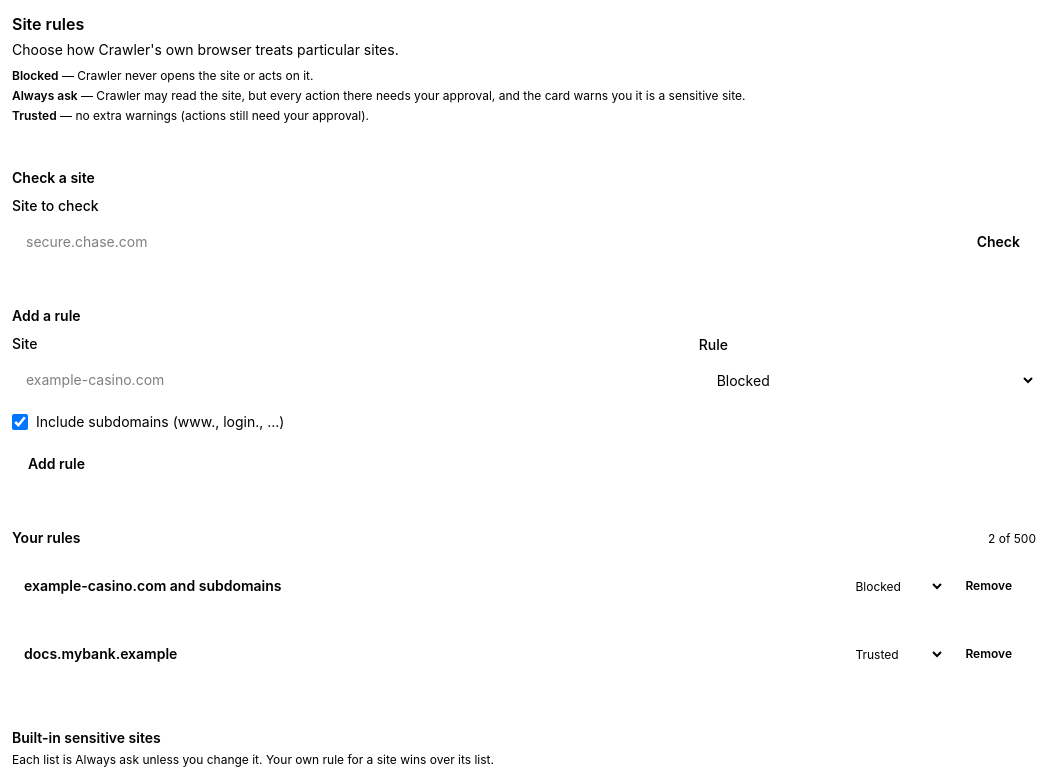
Test: SiteRulesTab › Add posts the typed site, the include-subdomains box and the chosen kind, then shows the new row
Expected: the element "Your rules" is shown, [12,508,1036,684]
Expected: the checkbox labelled "Include subdomains (www., login., …)" is checked, [12,414,28,430]
In the field labelled "Site": (349, 380) [12,360,687,400], type "  https://Shop.Example.com/cart  "
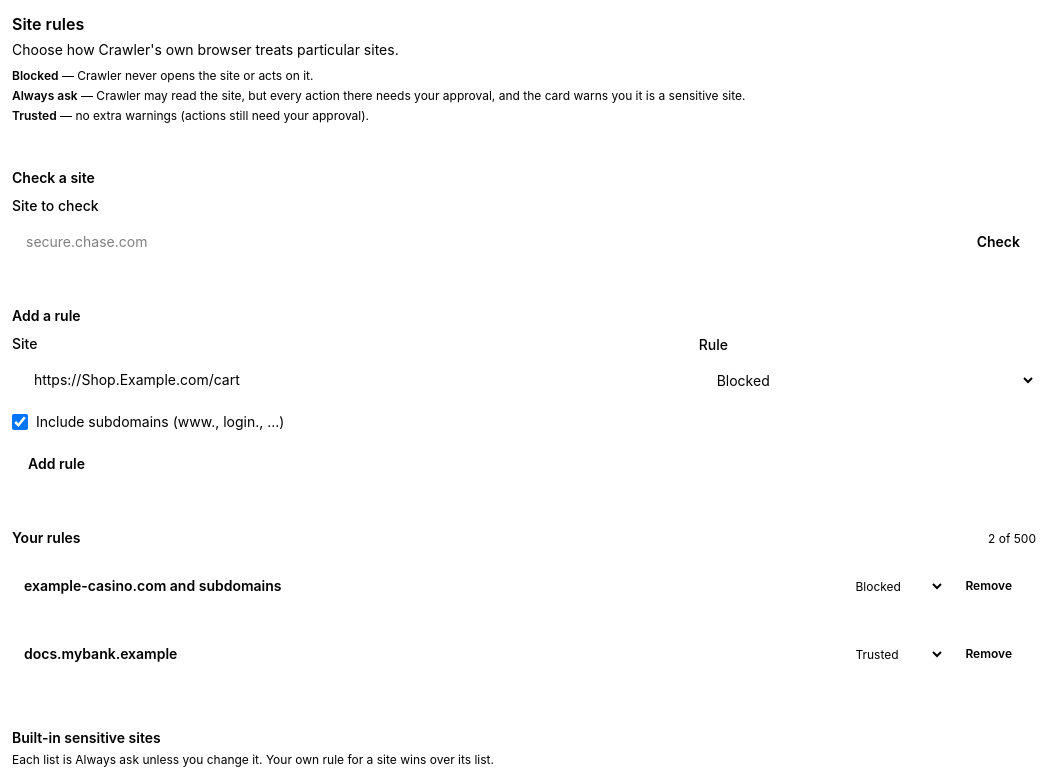
Click the checkbox labelled "Include subdomains (www., login., …)": (20, 422) [12,414,28,430]
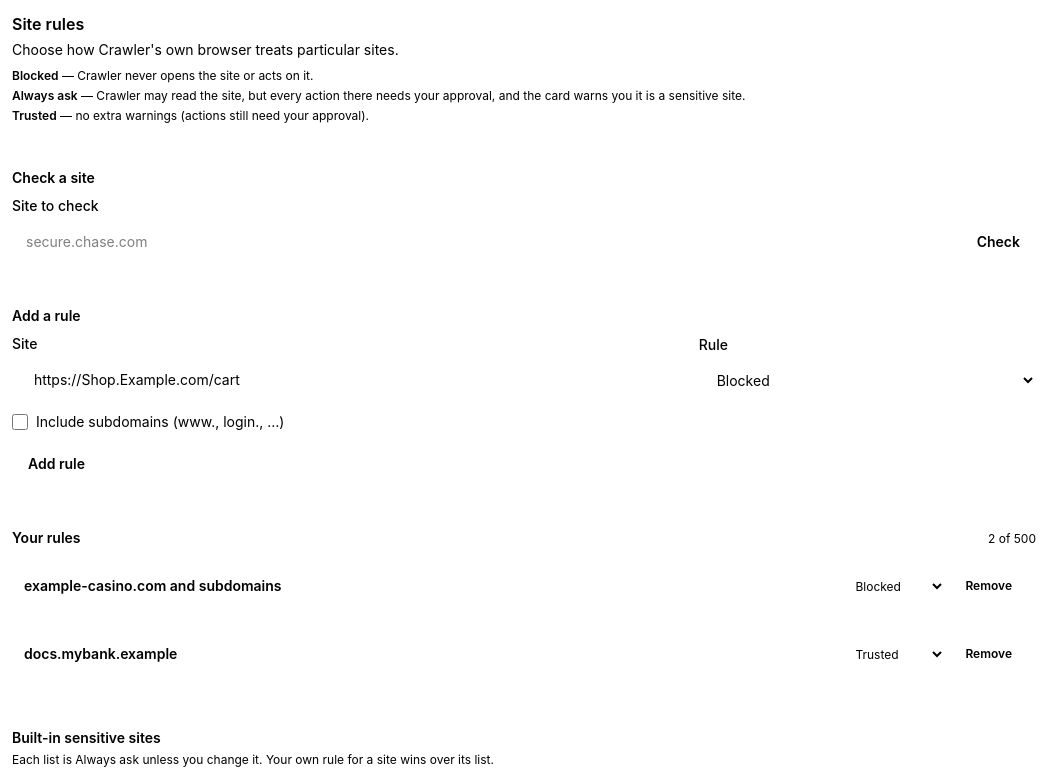
Select "Always ask" in the dropdown labelled "Rule": (867, 380) [699,361,1036,400]
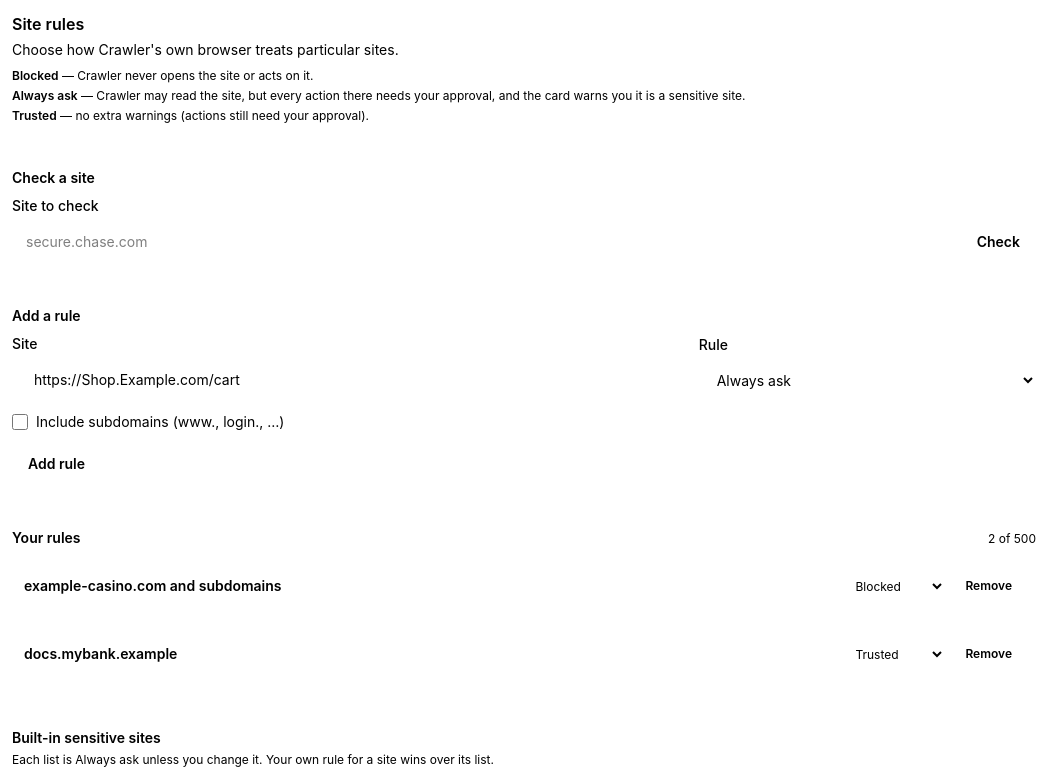
Click the button "Add rule": (56, 464) [12,444,101,484]
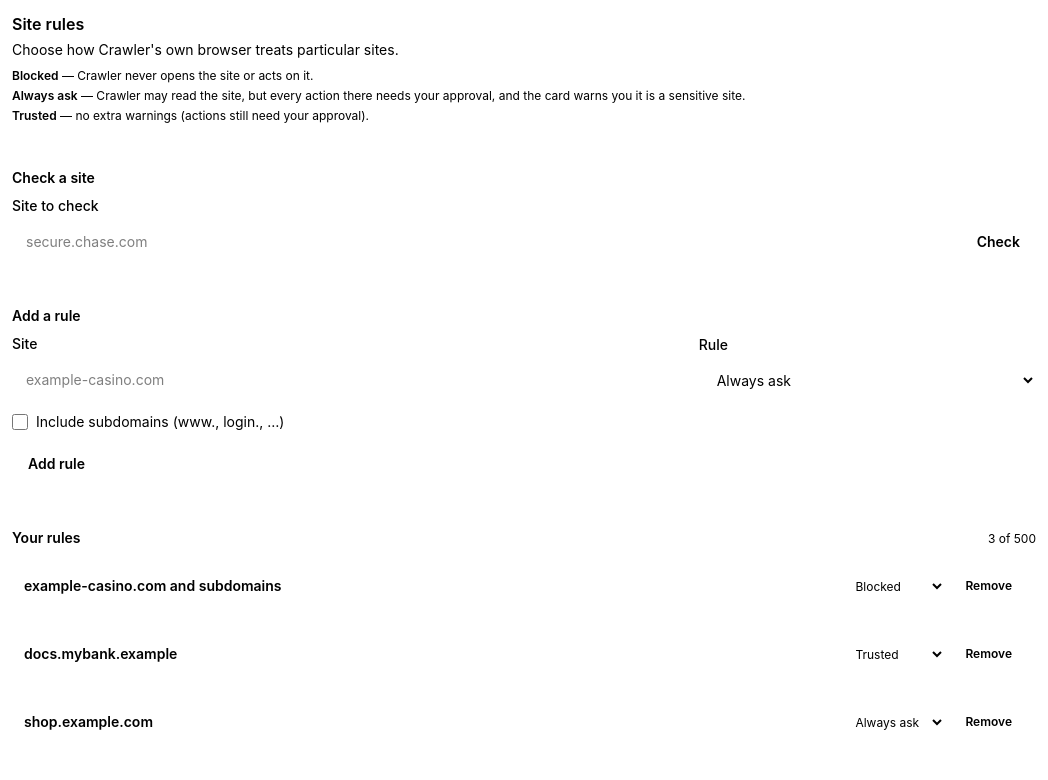
Now the text "shop.example.com" is shown, box [24,712,153,732]
Now the dropdown named "Rule for shop.example.com" shows "Always ask", box [841,708,945,736]
Now the text "3 of 500" is shown, box [988,531,1036,547]
